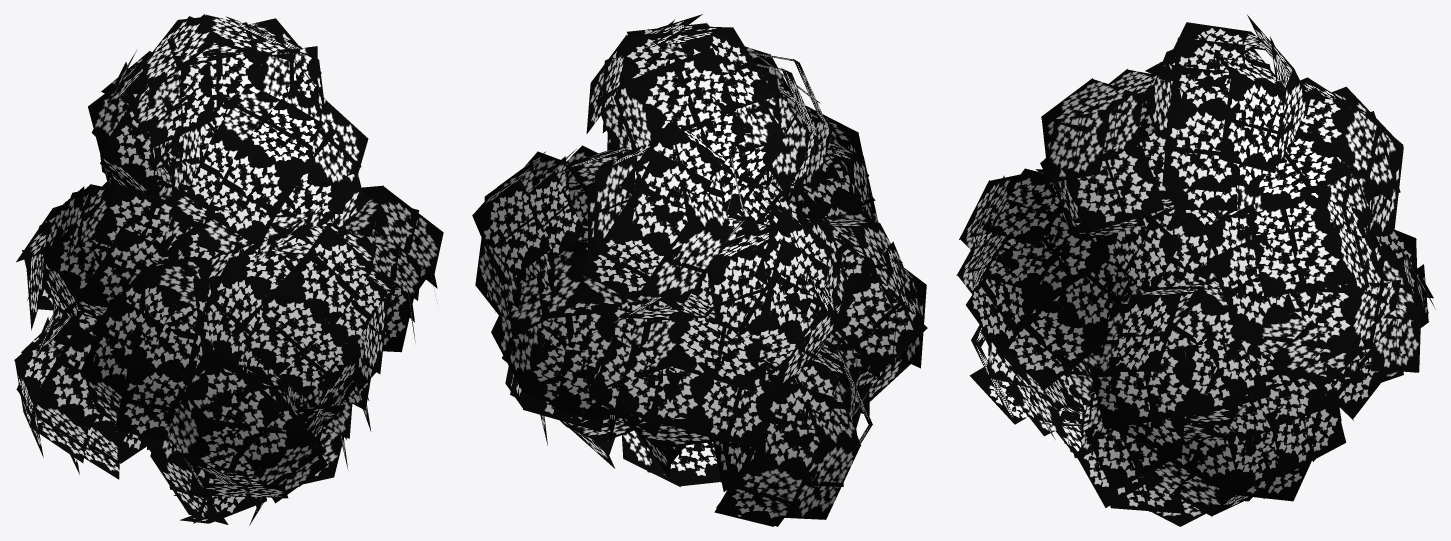
Rendered from envTree_03_Leaves.fbx.
3 renders of one model, left to right at view 1: azimuth 30°, elevation 25°; view 2: azimuth 150°, elevation 25°; view 3: azimuth 270°, elevation 25°, orthographic. The views are drawn at different scales.
Visible parts, largest first — view 1: envTree_Leaves_03; view 2: envTree_Leaves_03; view 3: envTree_Leaves_03.
Part boxes in pixels (x1,y1,x2,y2): envTree_Leaves_03: (14,14,443,525); envTree_Leaves_03: (472,14,927,526); envTree_Leaves_03: (956,15,1435,526).
Bounding box in the file's own units: 226 × 267 × 242.
1 material, 1 textured.
